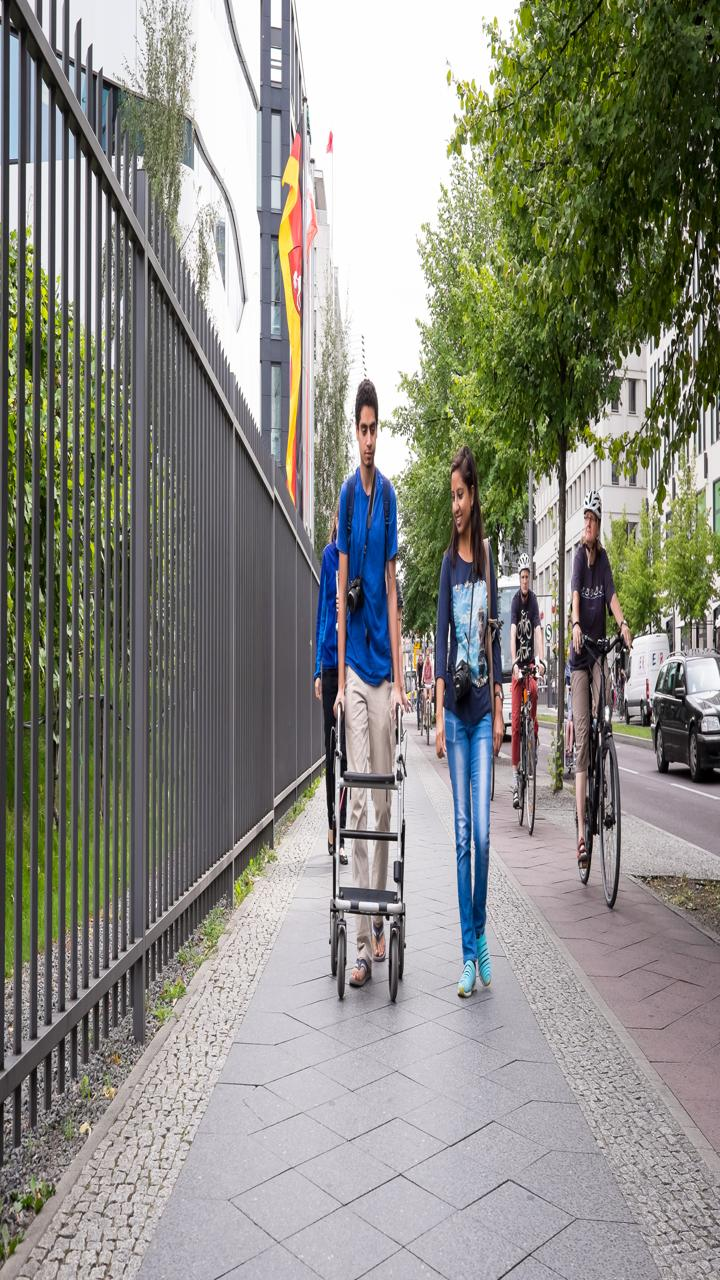bicycle: (579, 632, 635, 924), (508, 639, 540, 843)
cyclist: (564, 487, 611, 883), (506, 513, 539, 759)
pedestrian: (298, 385, 430, 1011), (434, 437, 494, 1024)
